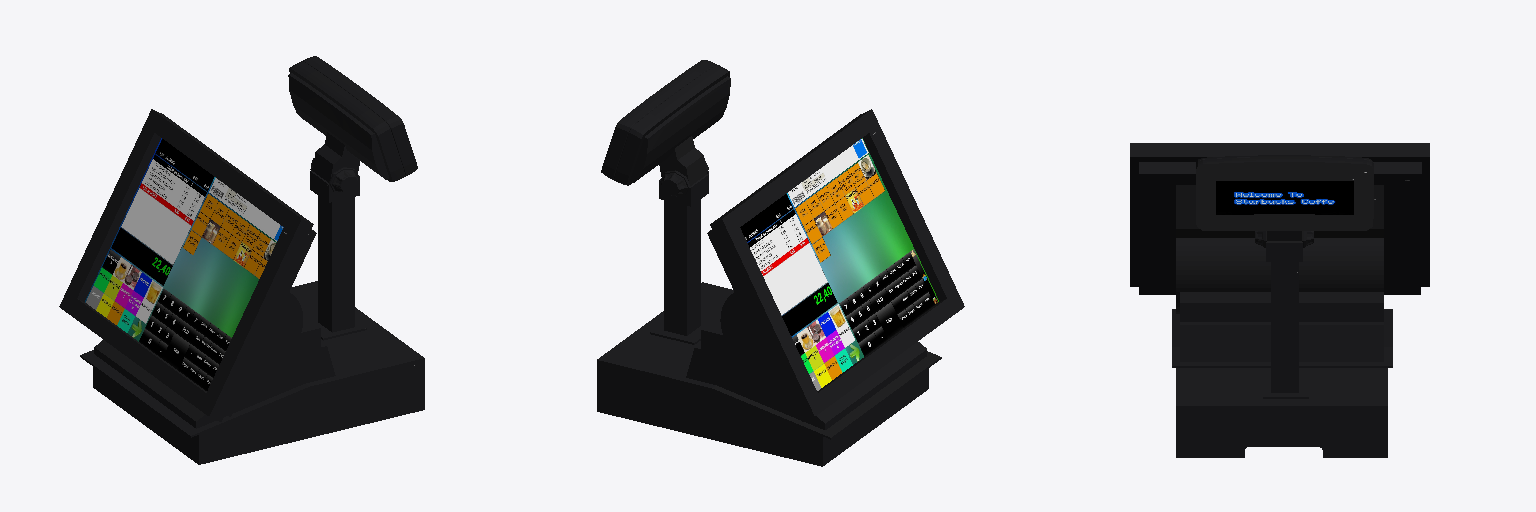
3 renders of one model, left to right at view 1: azimuth 30°, elevation 25°; view 2: azimuth 150°, elevation 25°; view 3: azimuth 270°, elevation 25°, orthographic.
Parts seen in each view (by area): view 1: Picerija:Picerija:Picerija1:DGeom_228; view 2: Picerija:Picerija:Picerija1:DGeom_228; view 3: Picerija:Picerija:Picerija1:DGeom_228.
Boxes of the visible parts, x1,y1,x2,y2 form: Picerija:Picerija:Picerija1:DGeom_228: [59, 56, 424, 464]; Picerija:Picerija:Picerija1:DGeom_228: [597, 60, 964, 466]; Picerija:Picerija:Picerija1:DGeom_228: [1130, 143, 1429, 457].
Bounding box in the file's own units: 0.6255 × 0.7087 × 0.6679.
Materials: 3 (3 with a texture image).